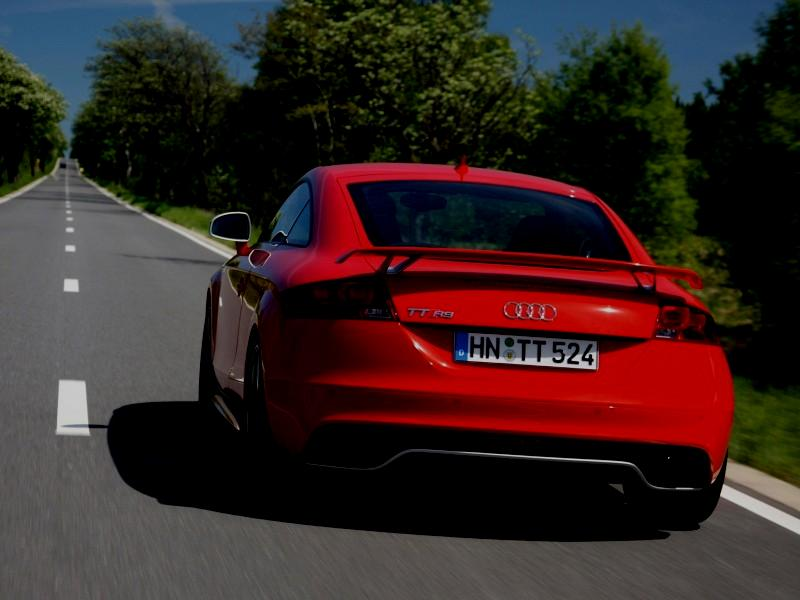Audi: (493, 290, 564, 331)
